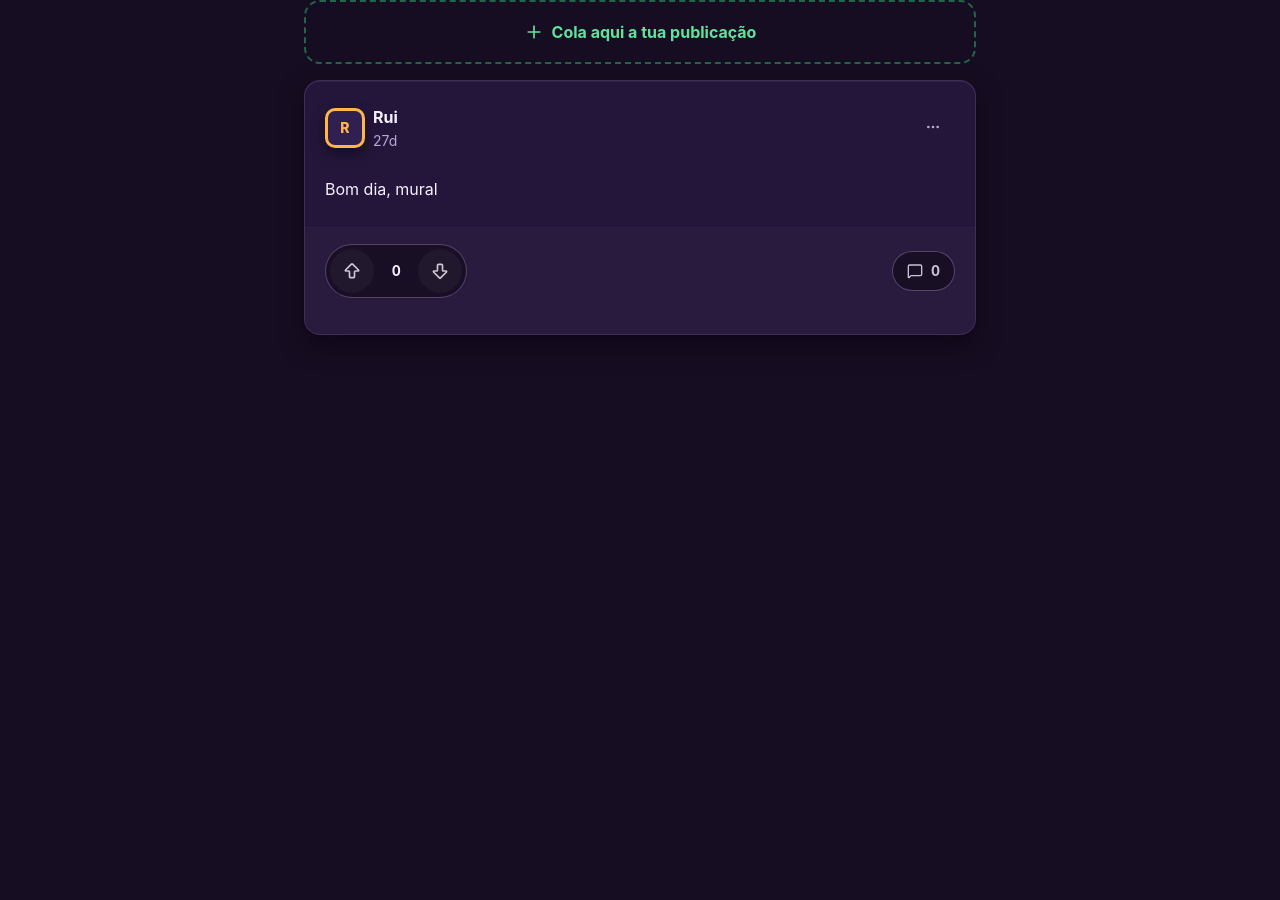
Test: HubFeedModule › as admin › pins a post
Click the button named "Opções da publicação" at [933, 127], box [911,105,955,149]
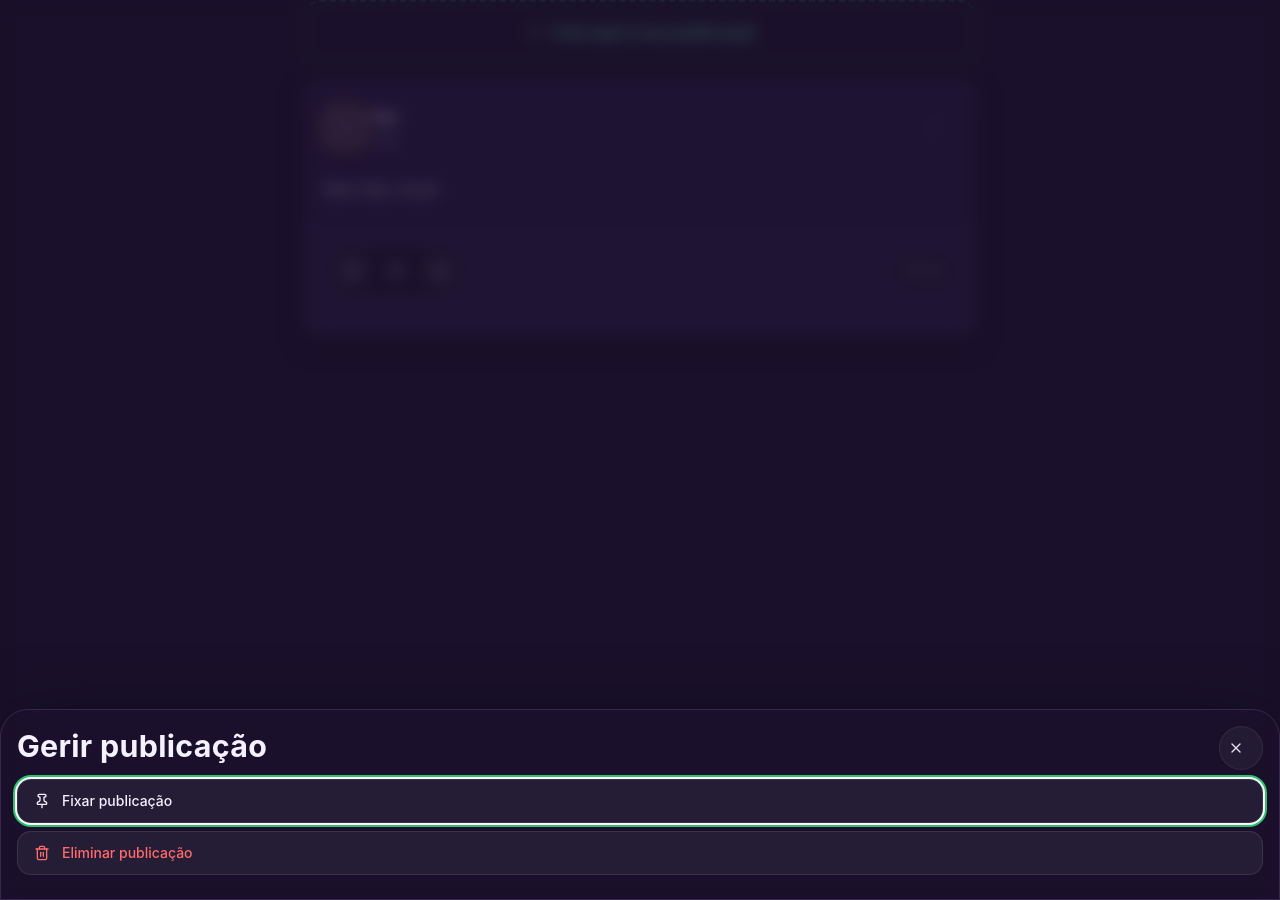
Click the button "Fixar publicação" at [117, 800], box [17,779,1263,823]
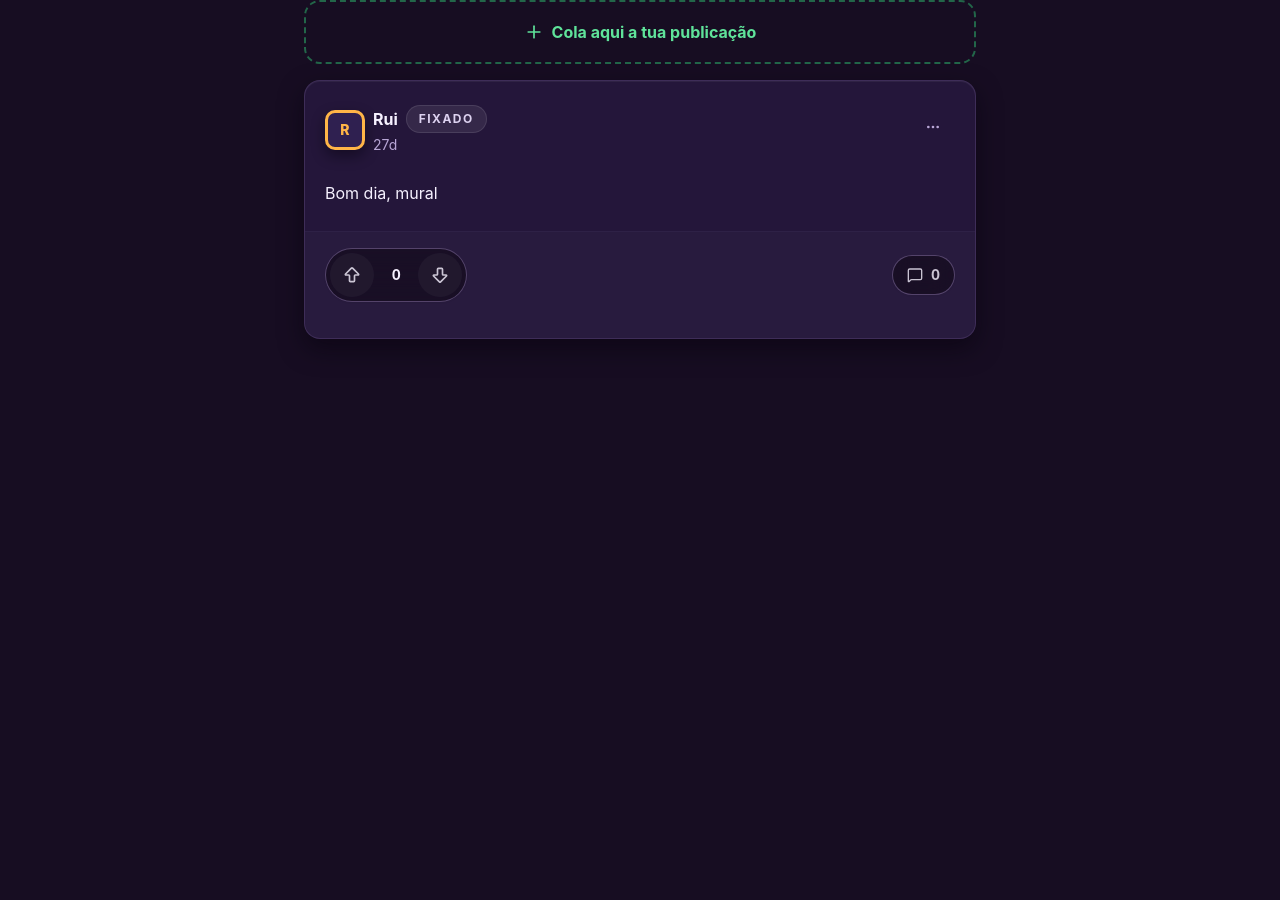
Result: the text "Fixado" is shown at [406,105,487,133]
Click the button named "Opções da publicação" at [933, 127], box [911,105,955,149]
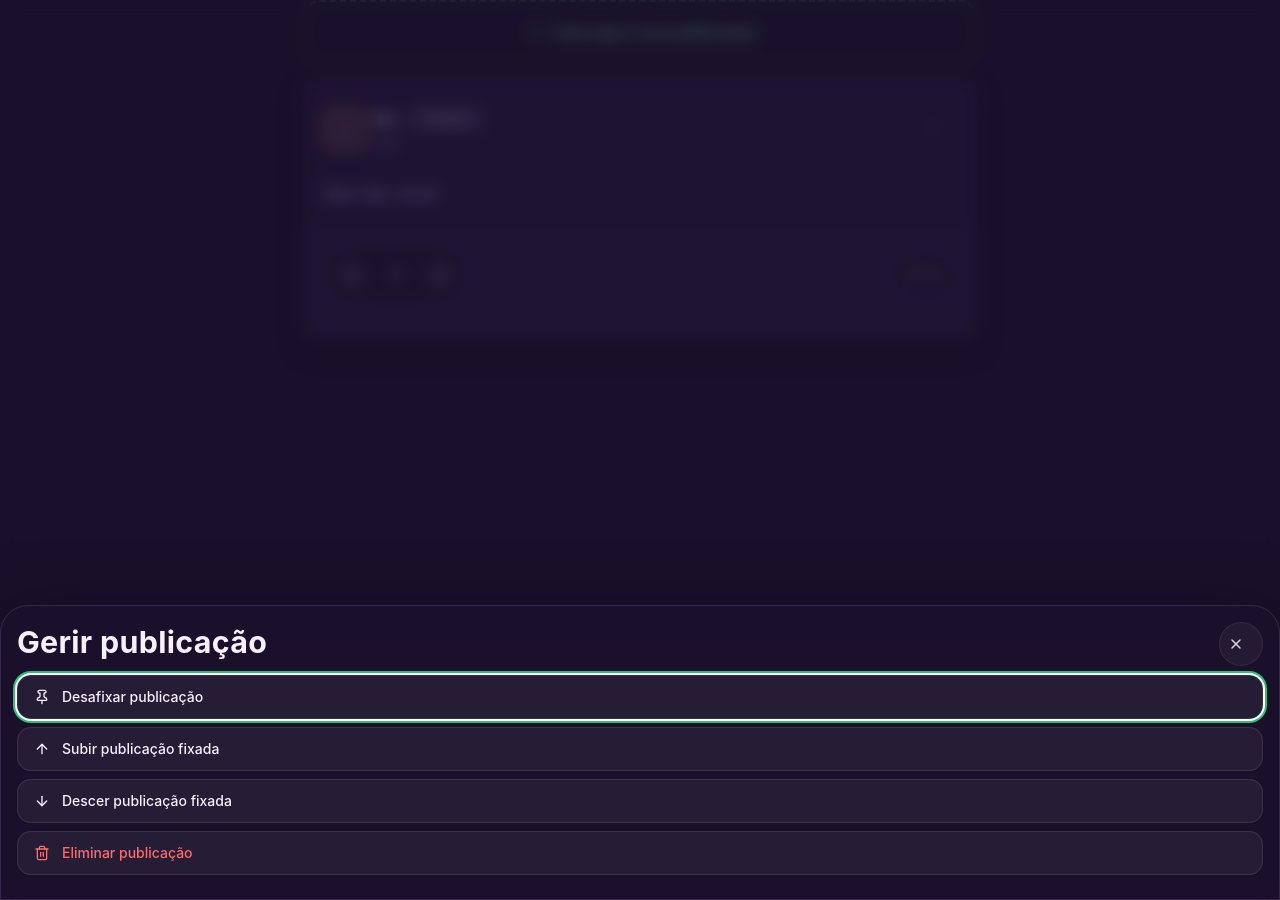
Result: the button "Subir publicação fixada" is shown at [17,727,1263,771]
